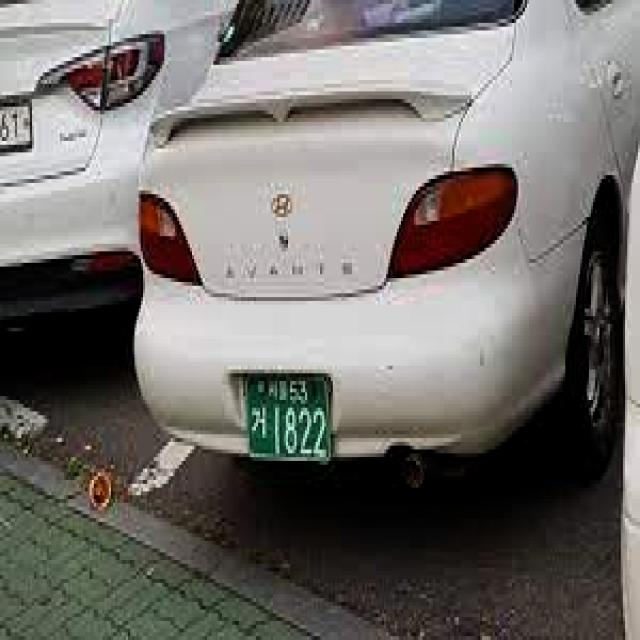car: (135, 0, 640, 500)
illegal_plate: (239, 362, 344, 485)
